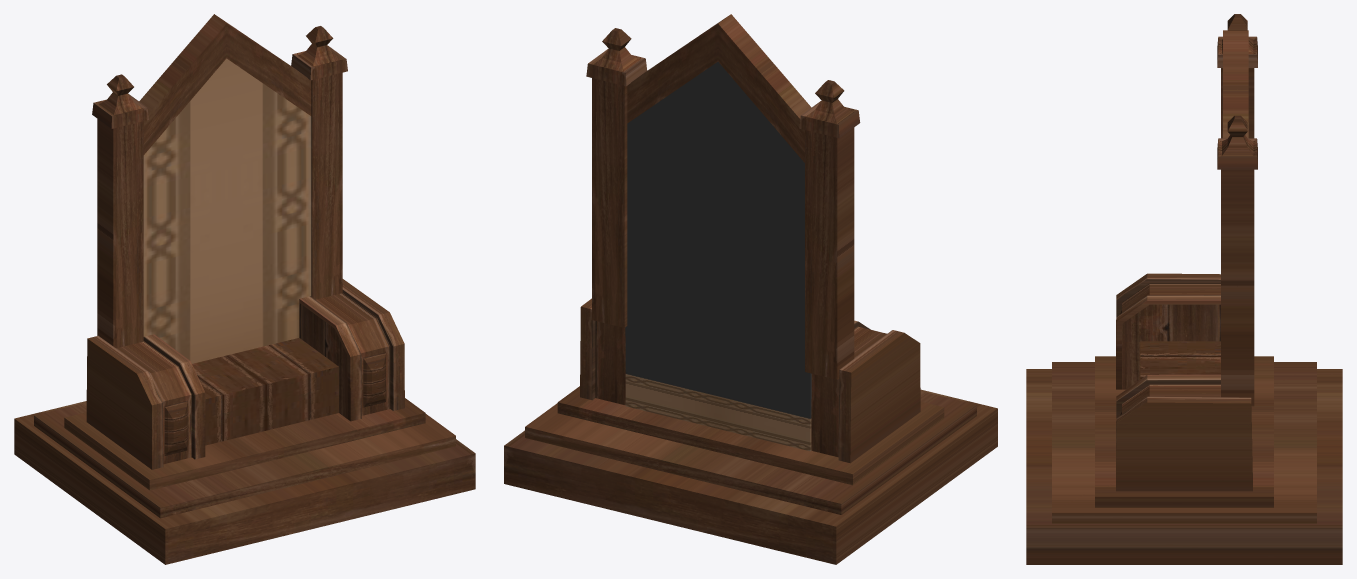
File: Throne_01.glb
3 renders of one model, left to right at view 1: azimuth 30°, elevation 25°; view 2: azimuth 150°, elevation 25°; view 3: azimuth 270°, elevation 25°, orthographic. The views are drawn at different scales.
Visible parts, largest first — view 1: Throne_01; view 2: Throne_01; view 3: Throne_01.
Part boxes in pixels (x1,y1,x2,y2): Throne_01: (14, 14, 475, 564); Throne_01: (504, 14, 997, 564); Throne_01: (1026, 14, 1342, 564).
Bounding box in the file's own units: 7.49 × 10.04 × 6.31.
1 material, 1 textured.
